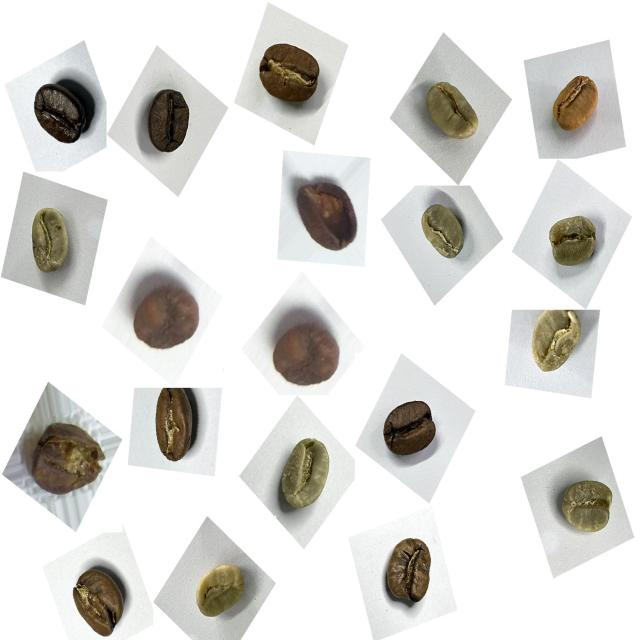bad: (20, 405, 109, 509), (122, 260, 205, 362), (261, 306, 346, 398), (290, 164, 366, 266)
dark: (21, 71, 101, 160), (373, 386, 450, 474), (133, 78, 201, 168)
green: (268, 426, 342, 526), (415, 66, 487, 154), (185, 550, 256, 634), (551, 466, 621, 547), (540, 203, 610, 284), (523, 305, 589, 383), (412, 197, 474, 270)
light: (143, 383, 210, 474), (542, 56, 609, 145), (21, 195, 81, 283)
medium: (373, 526, 445, 616), (62, 558, 136, 640), (254, 32, 322, 109)
